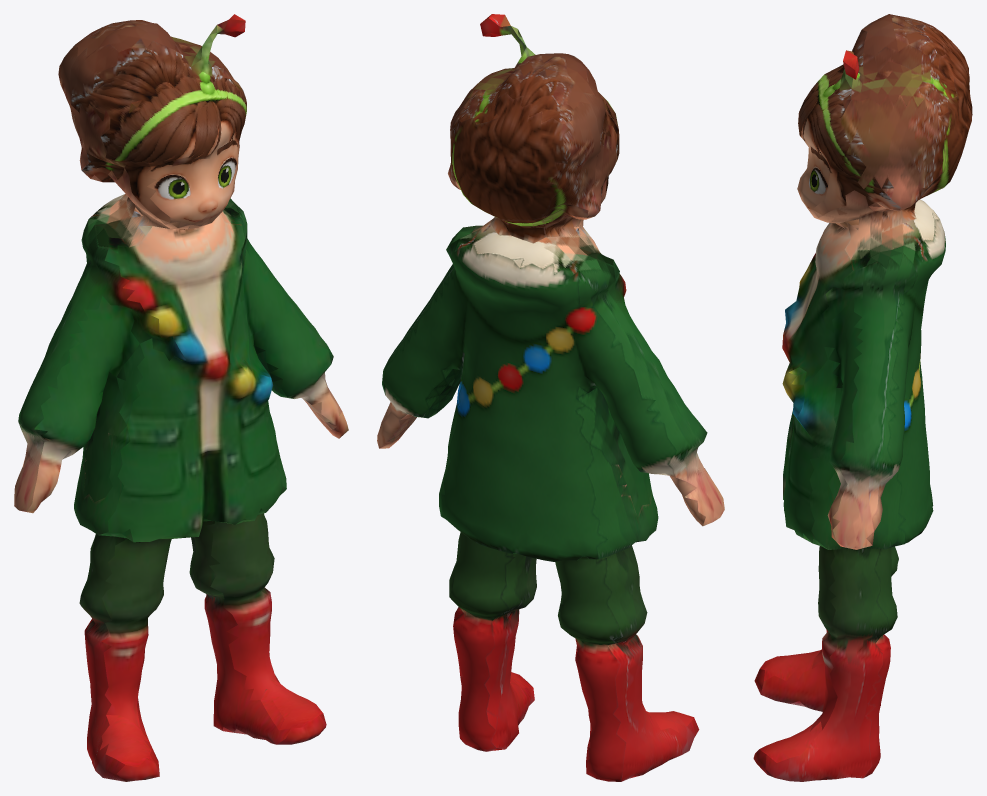
The model's file is twinkle-glow-toon-x5.glb.
The picture shows the model from 3 angles, left to right: view 1: azimuth 30°, elevation 25°; view 2: azimuth 150°, elevation 25°; view 3: azimuth 270°, elevation 25°; orthographic projection. The views are drawn at different scales.
Parts seen in each view (by area): view 1: world; view 2: world; view 3: world.
Boxes of the visible parts, x1,y1,x2,y2 form: world: (14,14,348,781); world: (377,14,724,781); world: (753,14,972,781).
Bounding box in the file's own units: 2.28 × 4.72 × 1.31.
Materials: 1 (1 with a texture image).
